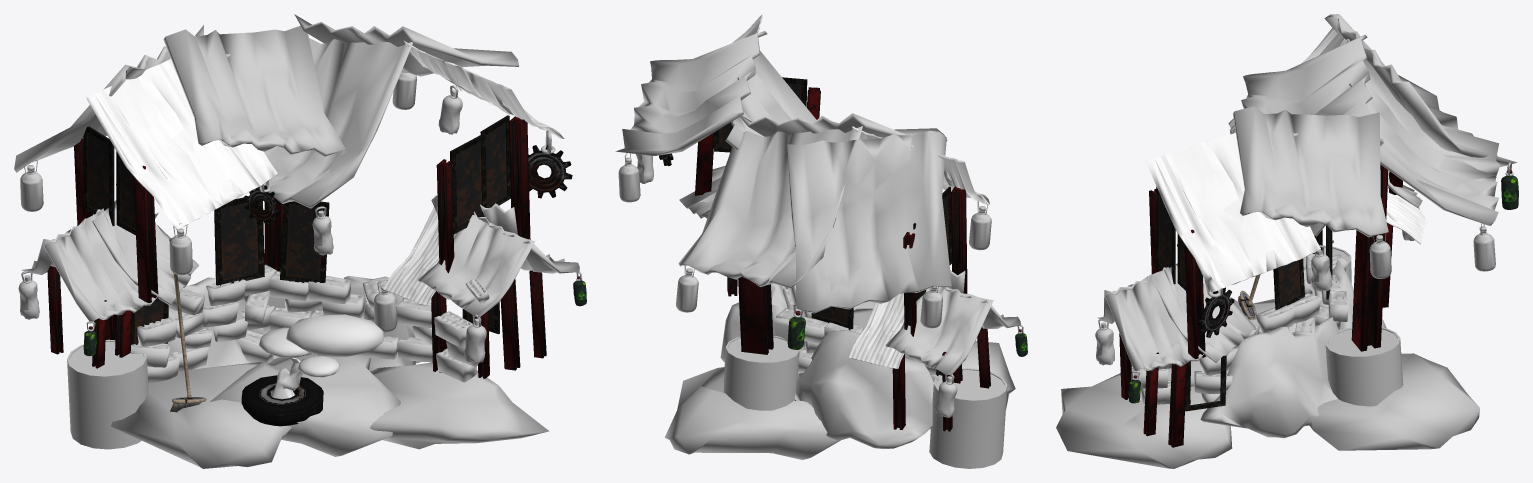
File: BonsaiTemple.fbx
3 views of the same model, side by side, from view 1: azimuth 30°, elevation 25°; view 2: azimuth 150°, elevation 25°; view 3: azimuth 270°, elevation 25° (orthographic). The views are drawn at different scales.
Parts seen in each view (by area): view 1: Corrugated_Roof_002.003, low_poly_metal_sheet1.003, Corrugated_Roof_005.004, Cube.014, Cube.016, Cube.015, CanBeans.002, Corrugated_Roof_002.004, Corrugated_Roof_005.001, Brick.007, Corrugated_Roof_002.005, fenceDoor.009 (+49 smaller); view 2: Corrugated_Roof_003.003, Corrugated_Roof_005.002, Cube.007, Corrugated_Roof_002.005, Cube.013, CanBeans.002, Corrugated_Roof_002.002, CanBeans.001, Corrugated_Roof_005.004, low_poly_metal_sheet1.002, IronBeam01_001.017, Corrugated_Roof_002.003 (+21 smaller); view 3: Corrugated_Roof_002.005, low_poly_metal_sheet1.005, Cube.012, Cube.013, Cube.016, Corrugated_Roof_005.002, Corrugated_Roof_002.003, Corrugated_Roof_005.003, CanBeans.001, Corrugated_Roof_003.003, IronBeam01_001.017, Corrugated_Roof_003.004 (+20 smaller).
Part boxes in pixels (left/top/right/bottom): Corrugated_Roof_002.003: left=163, top=24, right=345, bottom=156; low_poly_metal_sheet1.003: left=86, top=58, right=277, bottom=229; Corrugated_Roof_005.004: left=253, top=38, right=412, bottom=208; Cube.014: left=111, top=362, right=291, bottom=468; Cube.016: left=370, top=362, right=548, bottom=449; Cube.015: left=210, top=354, right=400, bottom=456; CanBeans.002: left=67, top=339, right=148, bottom=449; Corrugated_Roof_002.004: left=418, top=215, right=535, bottom=317; Corrugated_Roof_005.001: left=44, top=208, right=157, bottom=321; Brick.007: left=130, top=264, right=276, bottom=383; Corrugated_Roof_002.005: left=294, top=14, right=519, bottom=76; fenceDoor.009: left=214, top=197, right=264, bottom=286; Corrugated_Roof_003.003: left=787, top=130, right=951, bottom=313; Corrugated_Roof_005.002: left=678, top=126, right=862, bottom=288; Cube.007: left=794, top=330, right=933, bottom=449; Corrugated_Roof_002.005: left=615, top=31, right=767, bottom=155; Cube.013: left=664, top=367, right=840, bottom=459; CanBeans.002: left=929, top=368, right=1007, bottom=468; Corrugated_Roof_002.002: left=885, top=286, right=993, bottom=375; CanBeans.001: left=723, top=335, right=799, bottom=410; Corrugated_Roof_005.004: left=725, top=51, right=816, bottom=149; low_poly_metal_sheet1.002: left=849, top=293, right=904, bottom=368; IronBeam01_001.017: left=738, top=277, right=773, bottom=354; Corrugated_Roof_002.003: left=738, top=113, right=947, bottom=140; Corrugated_Roof_002.005: left=1233, top=106, right=1388, bottom=237; low_poly_metal_sheet1.005: left=1146, top=133, right=1320, bottom=292; Cube.012: left=1200, top=317, right=1338, bottom=438; Cube.013: left=1309, top=353, right=1479, bottom=450; Cube.016: left=1056, top=373, right=1232, bottom=468; Corrugated_Roof_005.002: left=1349, top=59, right=1500, bottom=225; Corrugated_Roof_002.003: left=1241, top=34, right=1372, bottom=116; Corrugated_Roof_005.003: left=1106, top=267, right=1203, bottom=371; CanBeans.001: left=1325, top=327, right=1403, bottom=406; Corrugated_Roof_003.003: left=1324, top=14, right=1517, bottom=167; IronBeam01_001.017: left=1351, top=164, right=1388, bottom=351; Corrugated_Roof_003.004: left=1152, top=263, right=1256, bottom=362.
Size of the model in its own units: 38.24 by 30.79 by 36.36.
